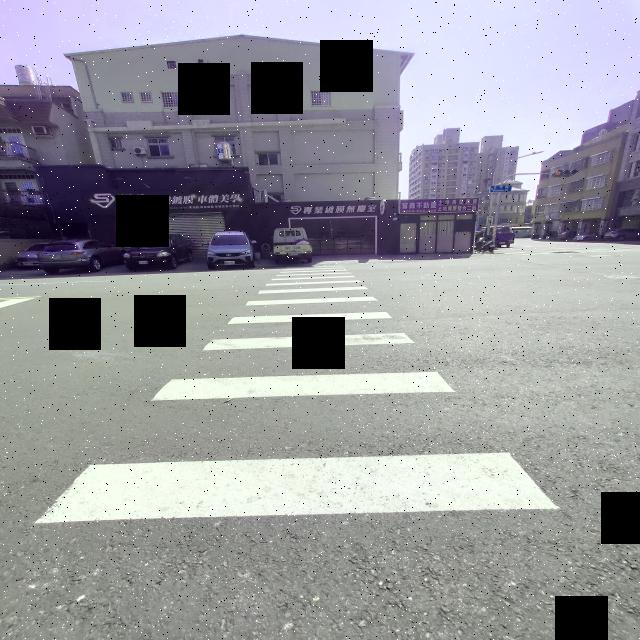zebra crossing: (39, 266, 559, 518), (505, 249, 640, 256)
